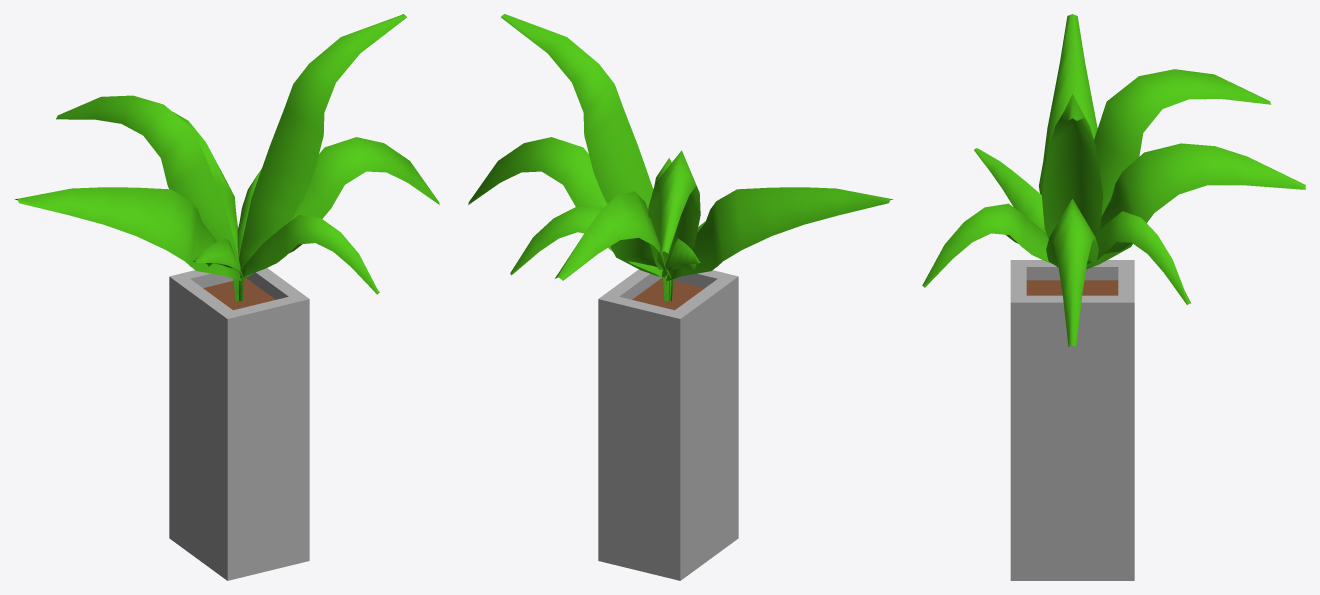
The model's file is bush-supermarket.fbx.
3 views of the same model, side by side, from view 1: azimuth 30°, elevation 25°; view 2: azimuth 150°, elevation 25°; view 3: azimuth 270°, elevation 25° (orthographic). The views are drawn at different scales.
Visible parts, largest first — view 1: bush-supermarket; view 2: bush-supermarket; view 3: bush-supermarket.
Part boxes in pixels (x1,y1,x2,y2): bush-supermarket: [14, 14, 439, 580]; bush-supermarket: [468, 14, 893, 580]; bush-supermarket: [922, 14, 1305, 580].
Bounding box in the file's own units: 0.618 × 0.6924 × 0.4573.
